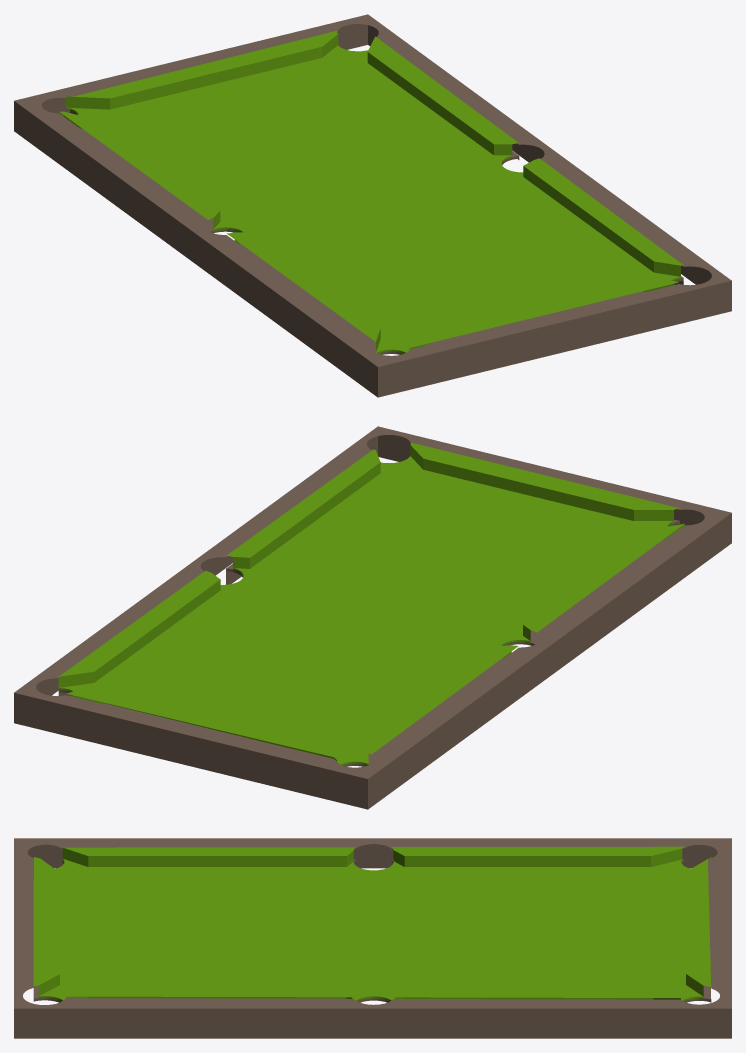
File: Table.glb
The picture shows the model from 3 angles, top to bottom: view 1: azimuth 30°, elevation 25°; view 2: azimuth 150°, elevation 25°; view 3: azimuth 270°, elevation 25°; orthographic projection.
Parts seen in each view (by area): view 1: Material3, Material2.009; view 2: Material3, Material2.009; view 3: Material3, Material2.009.
Boxes of the visible parts, x1,y1,x2,y2 form: Material3: (59, 30, 683, 353); Material2.009: (14, 14, 731, 397); Material3: (58, 442, 684, 765); Material2.009: (14, 426, 731, 809); Material3: (33, 846, 711, 1001); Material2.009: (14, 838, 731, 1038).
Size of the model in its own units: 6.37 by 0.6197 by 11.34.
